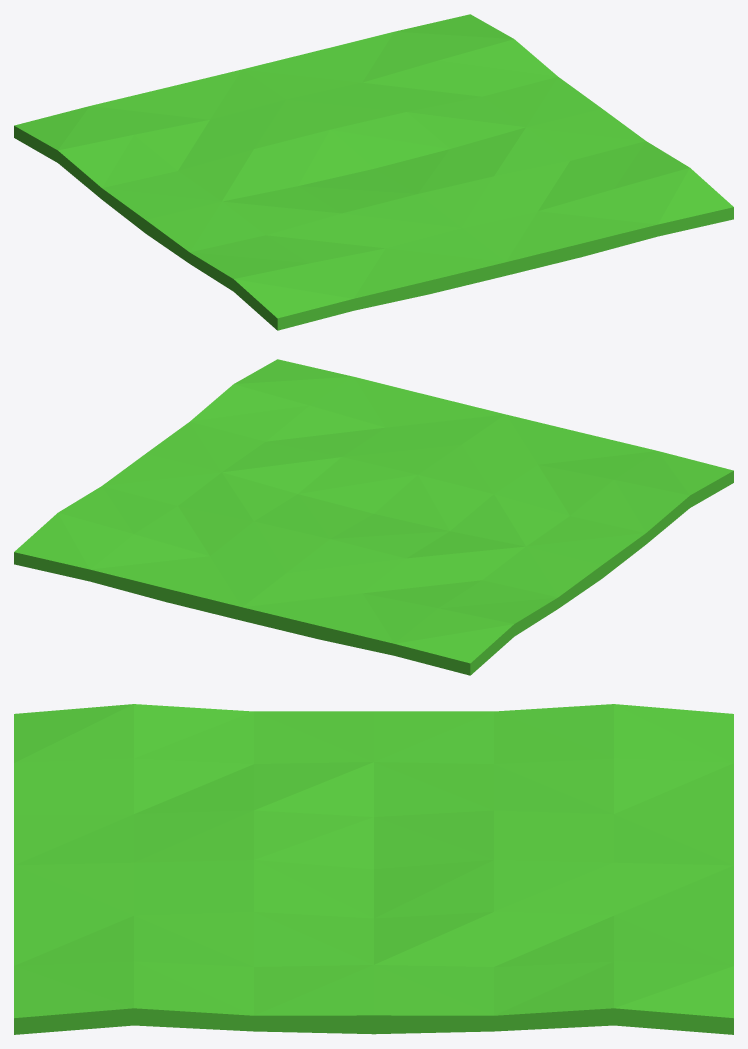
The model's file is Terrain.fbx.
The picture shows the model from 3 angles, top to bottom: view 1: azimuth 30°, elevation 25°; view 2: azimuth 150°, elevation 25°; view 3: azimuth 270°, elevation 25°; orthographic projection. The views are drawn at different scales.
Visible parts, largest first — view 1: Terrain 12x12; view 2: Terrain 12x12; view 3: Terrain 12x12.
Boxes of the visible parts, bbox=[...] form: Terrain 12x12: bbox=[14, 14, 733, 330]; Terrain 12x12: bbox=[14, 359, 733, 675]; Terrain 12x12: bbox=[14, 704, 733, 1034].
Size of the model in its own units: 12 by 0.5112 by 12.
